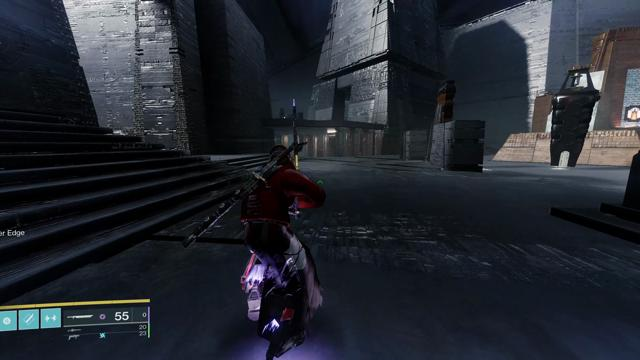worship: (627, 107, 640, 120)
